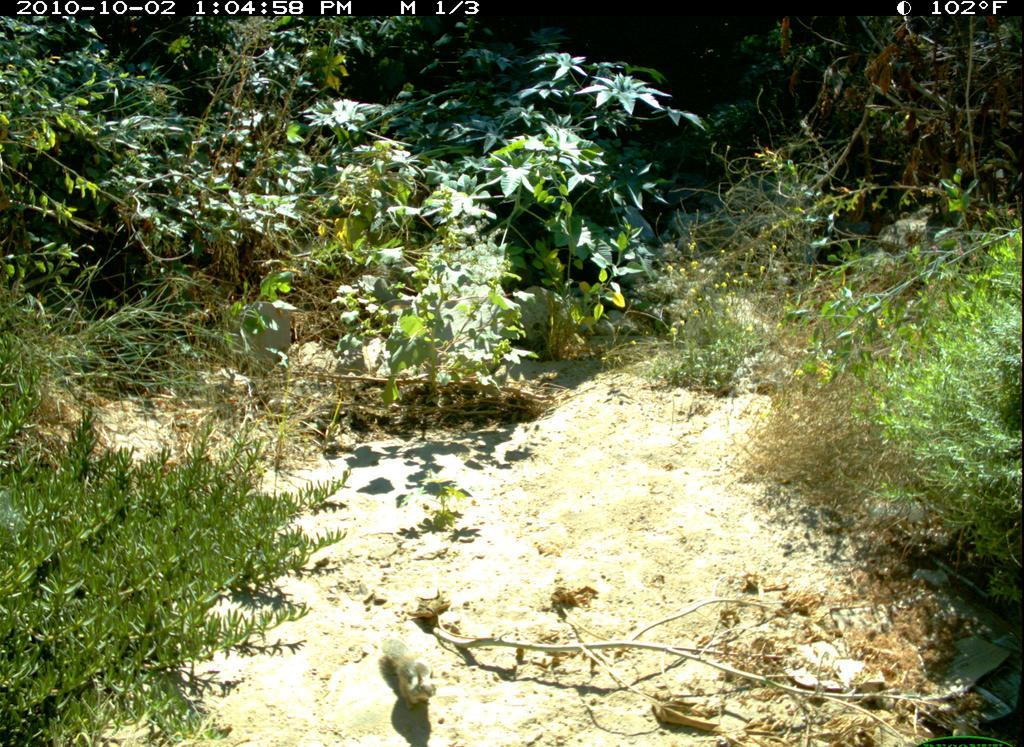squirrel: (370, 598, 461, 720)
